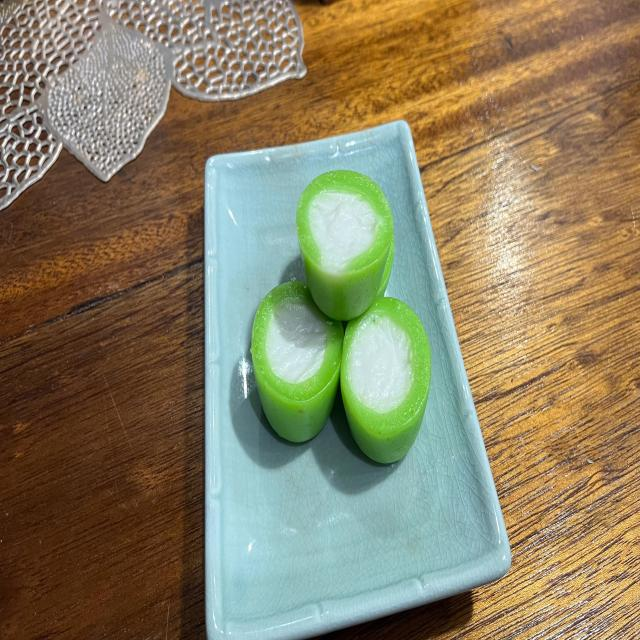nona-manis: (340, 298, 431, 464), (251, 282, 344, 442), (296, 171, 394, 320), (378, 236, 395, 298)
